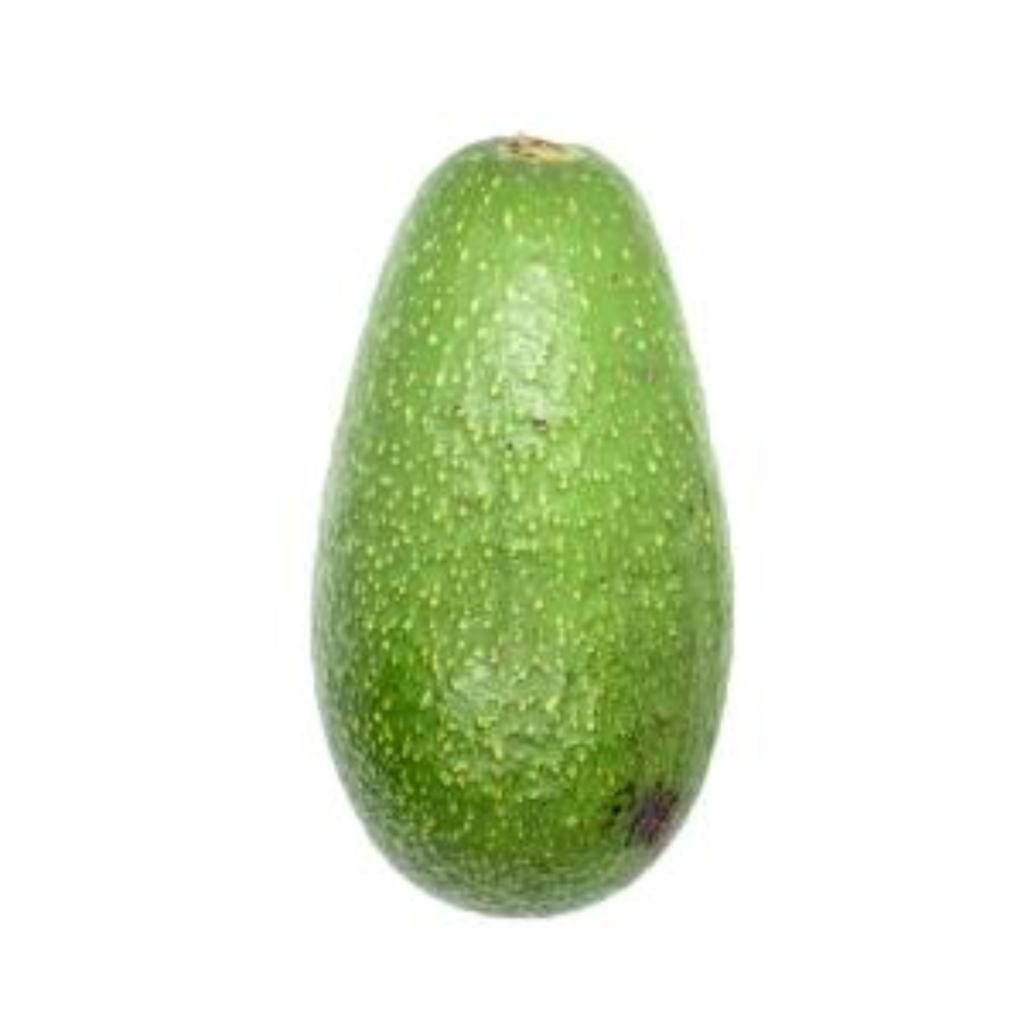cercospora: (280, 99, 792, 932)
